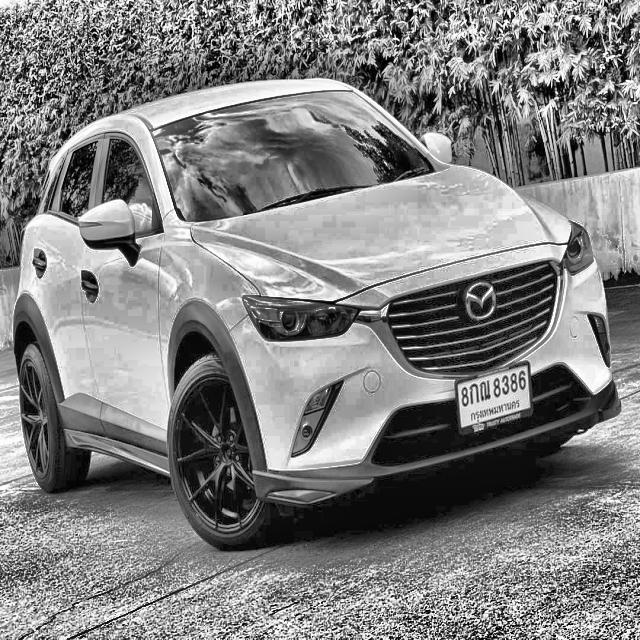license-plate: (452, 360, 532, 441)
